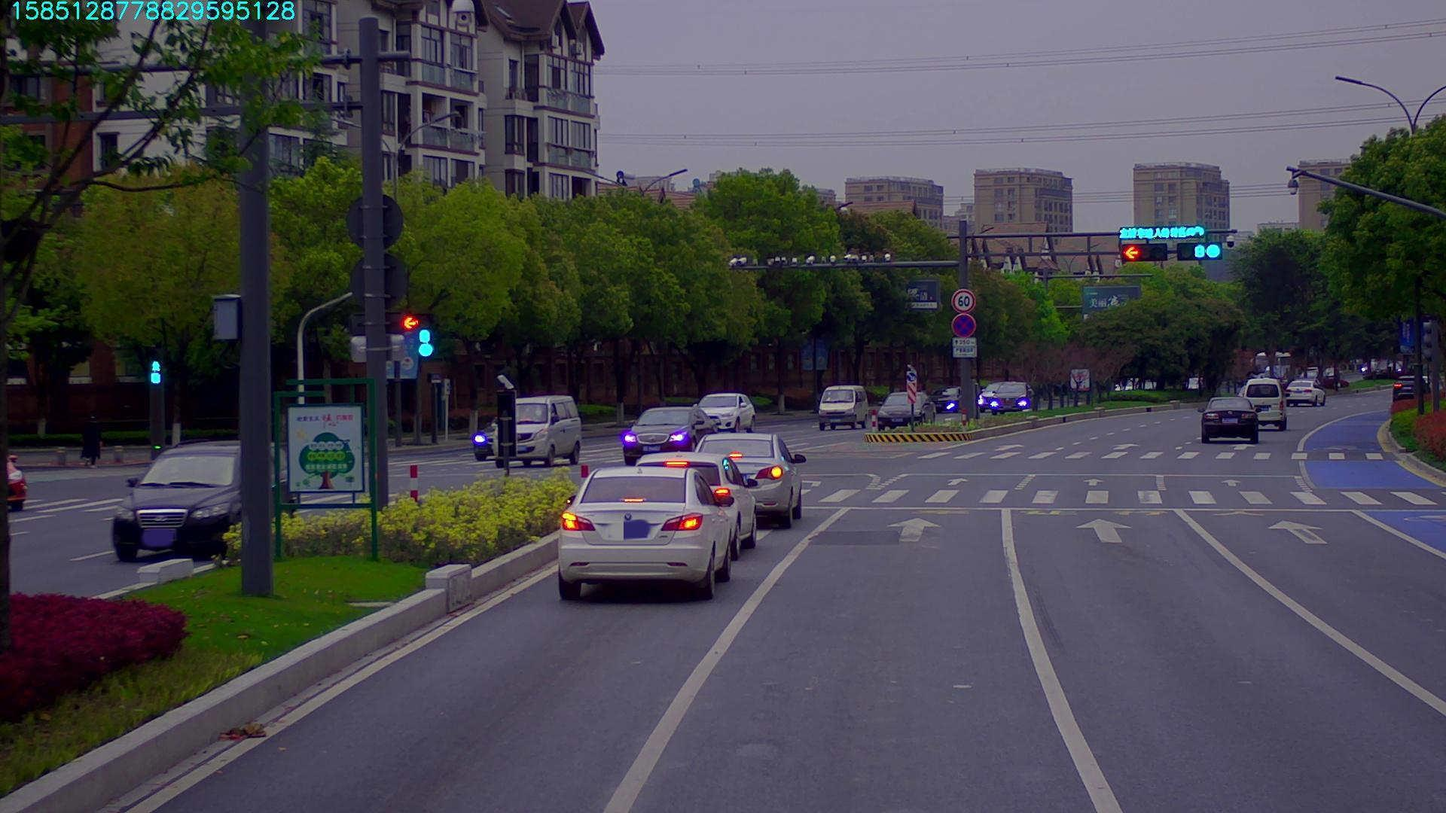green: (1179, 242, 1229, 261)
red: (1121, 246, 1167, 262)
wait_on: (1117, 224, 1204, 236)
